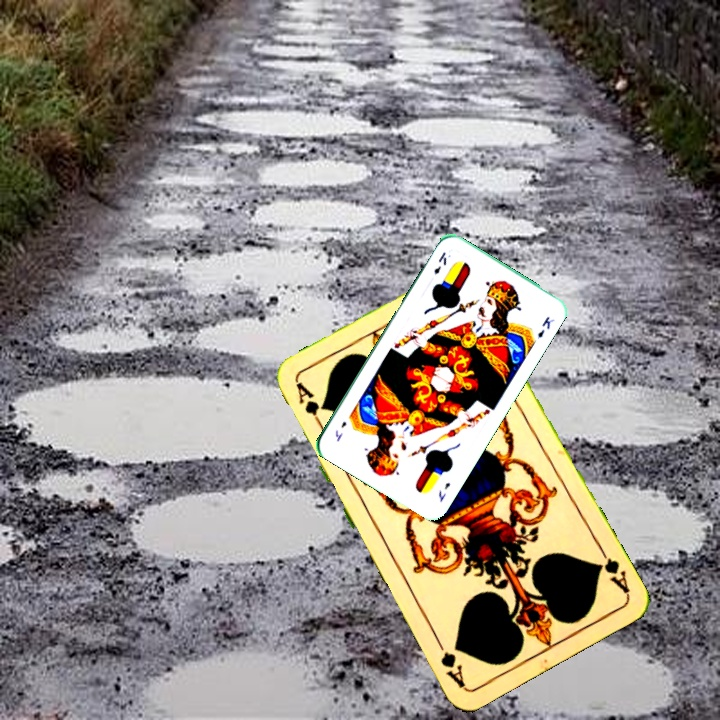EK: (430, 248, 449, 277), (434, 478, 453, 504)
GA: (591, 542, 633, 596), (292, 378, 328, 434)
